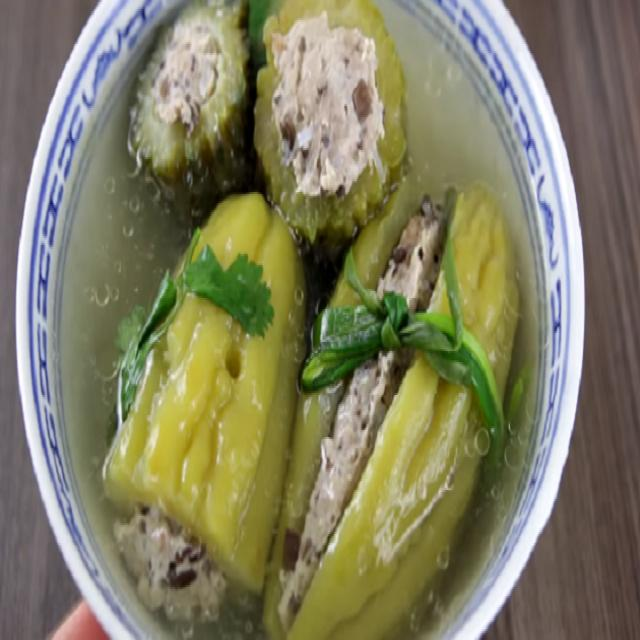kho qua: (104, 194, 305, 620), (263, 353, 489, 638), (330, 181, 518, 404), (254, 0, 405, 251), (129, 0, 253, 218)
